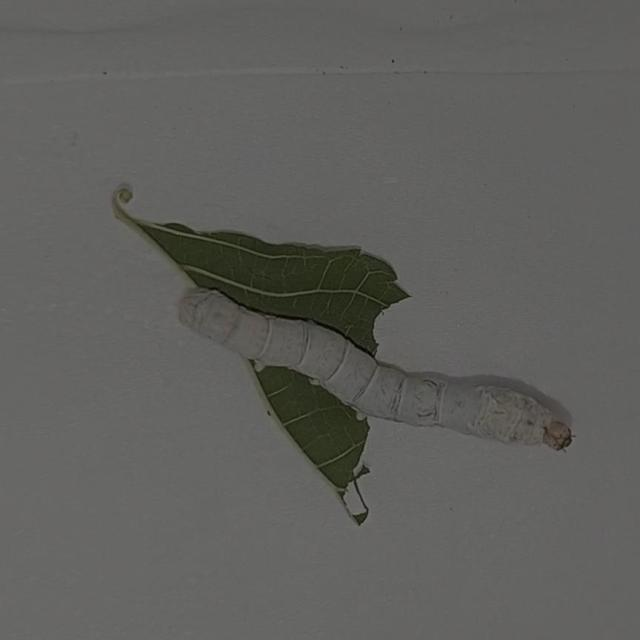Healthy: (169, 267, 593, 481)
